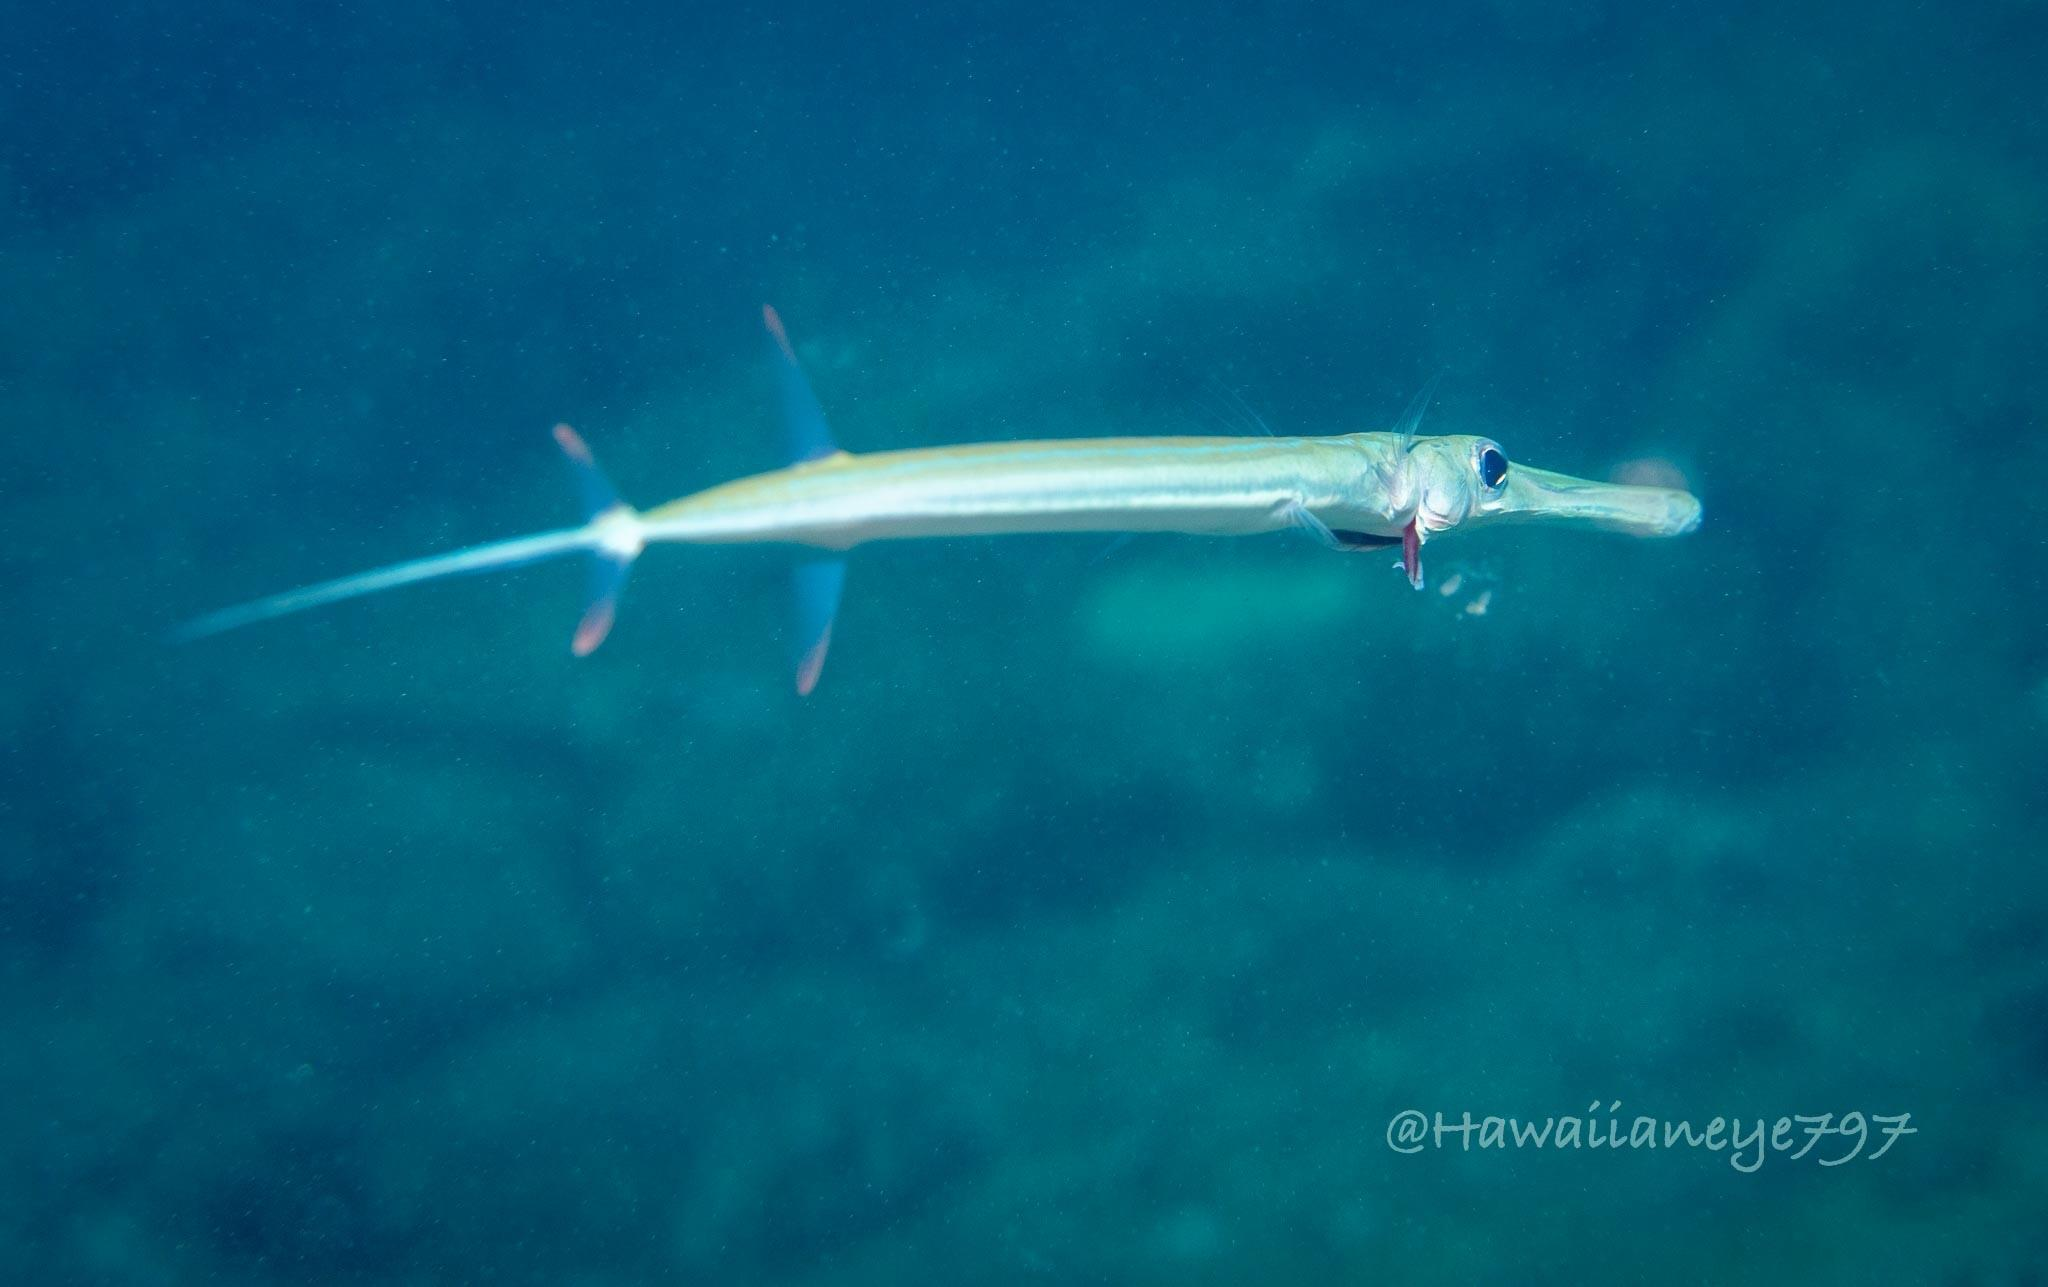Fistularia commersonii: (164, 301, 1705, 697)
